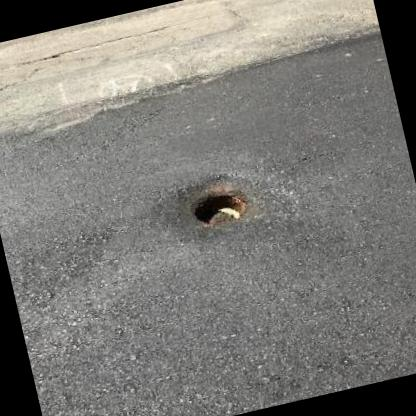pothole: (182, 183, 254, 233)
